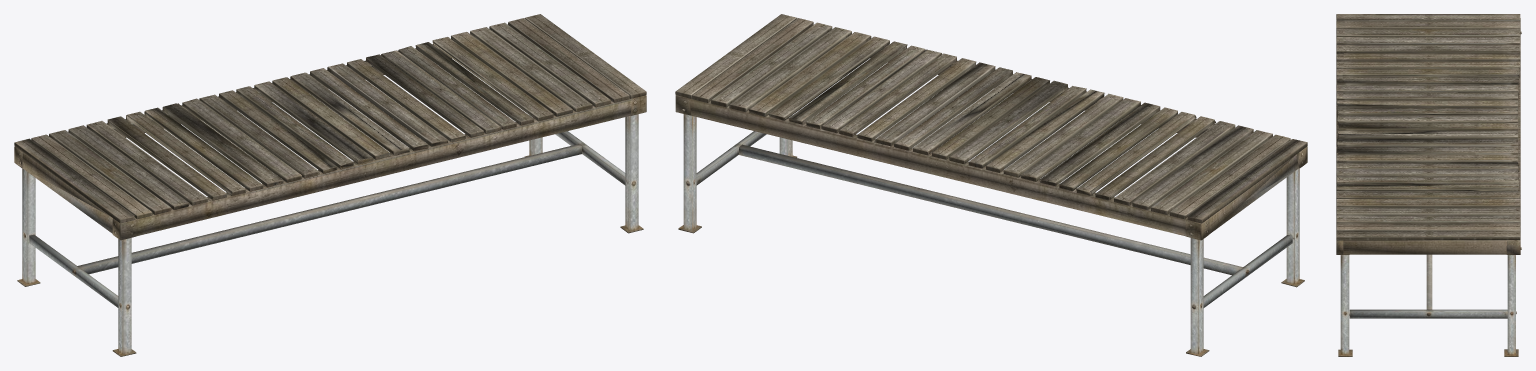
Rendered from skyways-d-gd-bench.glb.
3 renders of one model, left to right at view 1: azimuth 30°, elevation 25°; view 2: azimuth 150°, elevation 25°; view 3: azimuth 270°, elevation 25°, orthographic. The views are drawn at different scales.
Parts seen in each view (by area): view 1: skyways-d-gd-bench; view 2: skyways-d-gd-bench; view 3: skyways-d-gd-bench.
Boxes of the visible parts, x1,y1,x2,y2 form: skyways-d-gd-bench: [14, 14, 646, 356]; skyways-d-gd-bench: [675, 14, 1307, 356]; skyways-d-gd-bench: [1336, 14, 1521, 356].
Size of the model in its own units: 2.98 by 0.75 by 1.05.
1 material, 1 textured.
